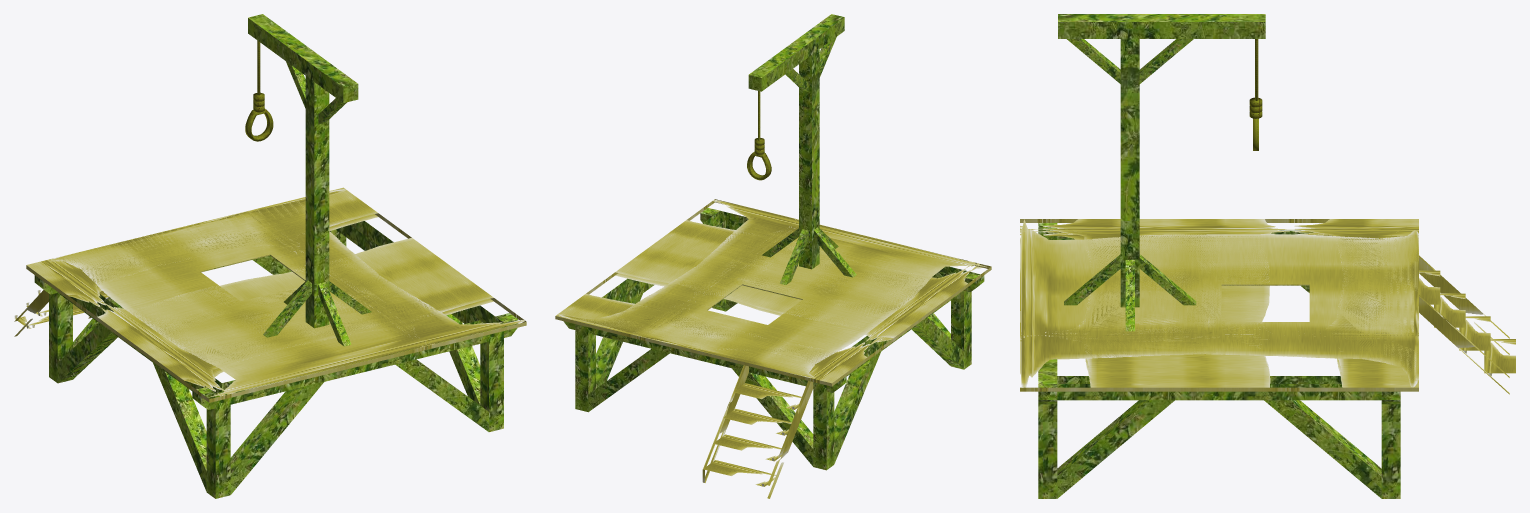
Rendered from Galgen.dae.
The picture shows the model from 3 angles, left to right: view 1: azimuth 30°, elevation 25°; view 2: azimuth 150°, elevation 25°; view 3: azimuth 270°, elevation 25°; orthographic projection. The views are drawn at different scales.
Parts seen in each view (by area): view 1: Model, Stüzbalken (×7); view 2: Model, Stüzbalken (×7), Stufe (×4), treppe1_1; view 3: Model, Stüzbalken (×7), Stufe (×3), treppe1_1.
Boxes of the visible parts, <box> form: Model: <box>14,14,526,498</box>; Stüzbalken (×7): <box>57,280,488,494</box>; Model: <box>555,14,991,498</box>; Stüzbalken (×7): <box>588,227,963,466</box>; Stufe (×4): <box>703,383,801,486</box>; treppe1_1: <box>702,365,748,482</box>; Model: <box>1020,14,1509,498</box>; Stüzbalken (×7): <box>1057,39,1381,498</box>; Stufe (×3): <box>1434,293,1515,376</box>; treppe1_1: <box>1419,295,1509,394</box>.
Size of the model in its own units: 3.52 by 4.38 by 3.94.
